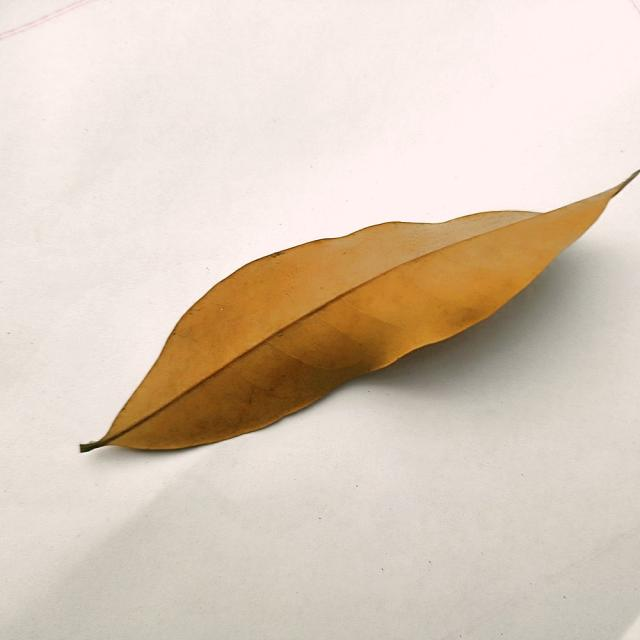Dry_Leaf-Lychee: (84, 177, 636, 456)
